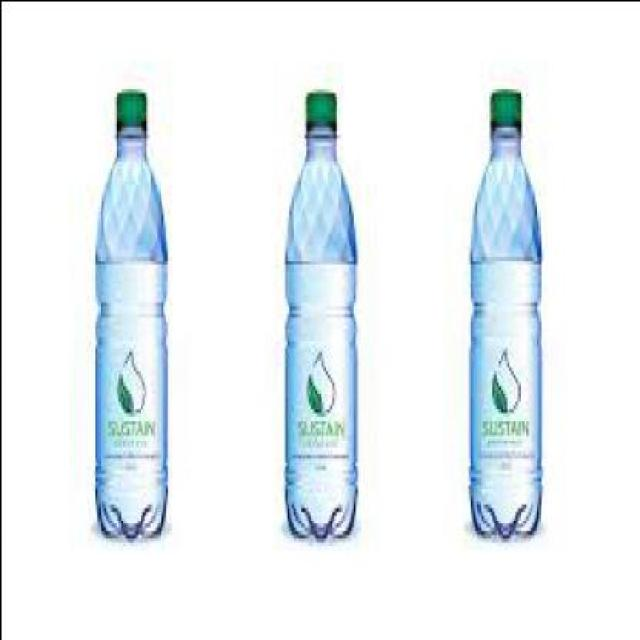PLASTIC: (89, 88, 166, 541), (279, 84, 355, 541), (465, 85, 538, 537), (110, 84, 144, 130), (302, 80, 333, 129), (488, 84, 520, 130)
